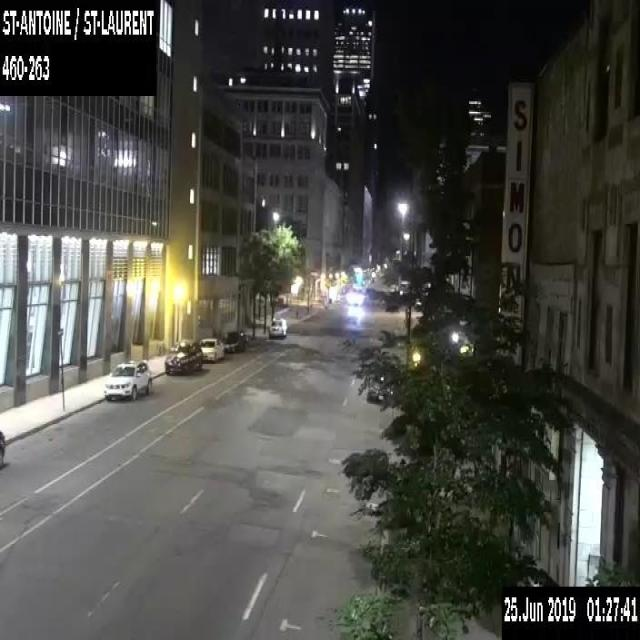vehicle: (103, 358, 152, 401), (164, 339, 203, 374), (199, 336, 224, 360), (222, 330, 248, 352), (268, 316, 288, 338), (0, 429, 8, 471), (348, 288, 363, 304)
